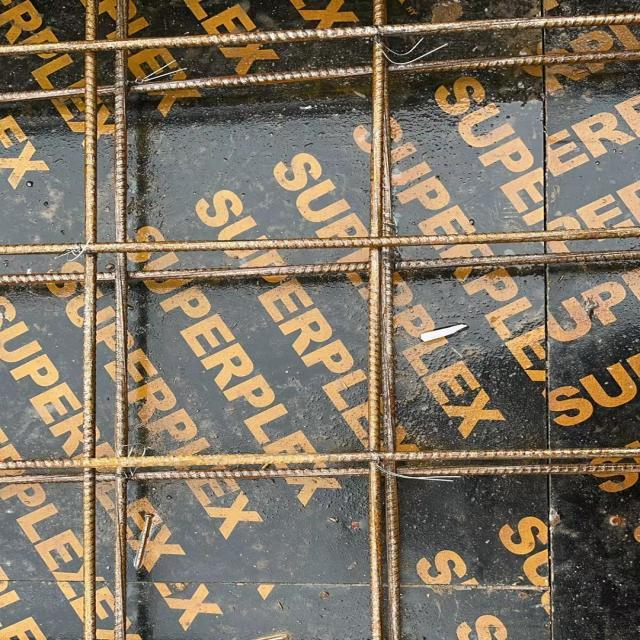ribbed bar: (0, 48, 639, 105), (0, 11, 639, 56), (0, 247, 639, 284), (368, 0, 401, 639), (0, 224, 639, 256), (0, 445, 639, 469), (0, 462, 639, 483), (80, 0, 97, 639), (113, 0, 127, 639)
